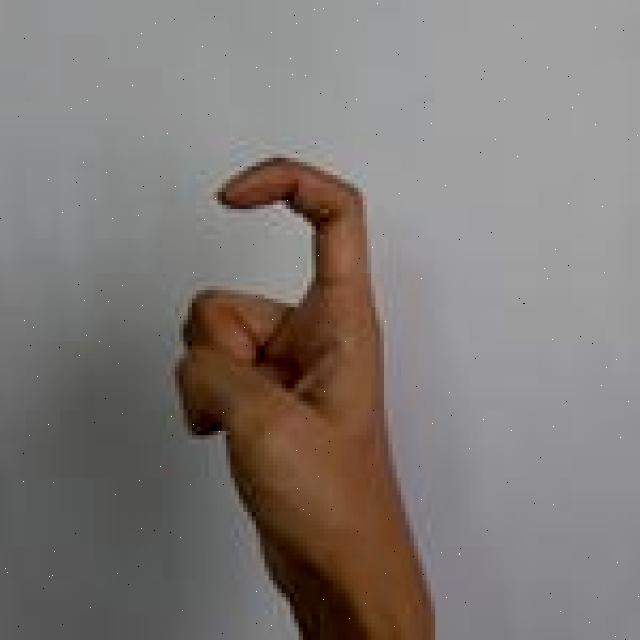X: (168, 150, 440, 640)
